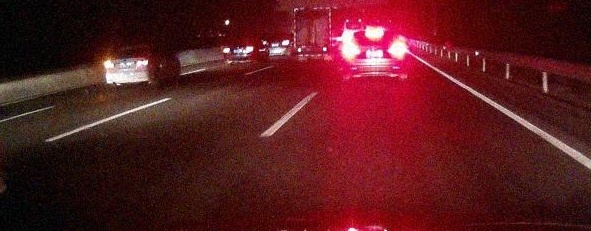L_light: (344, 46, 361, 58), (103, 59, 115, 69), (222, 47, 231, 53), (296, 48, 304, 52)
R_light: (389, 45, 406, 57), (136, 58, 150, 68), (246, 46, 255, 52), (321, 48, 329, 52)
T_light: (366, 29, 383, 38), (126, 45, 137, 50), (238, 37, 245, 40), (309, 9, 316, 12)
night-brake: (342, 27, 408, 83)
night-left: (102, 42, 156, 90)
night-no: (293, 7, 332, 62), (222, 35, 257, 64)
